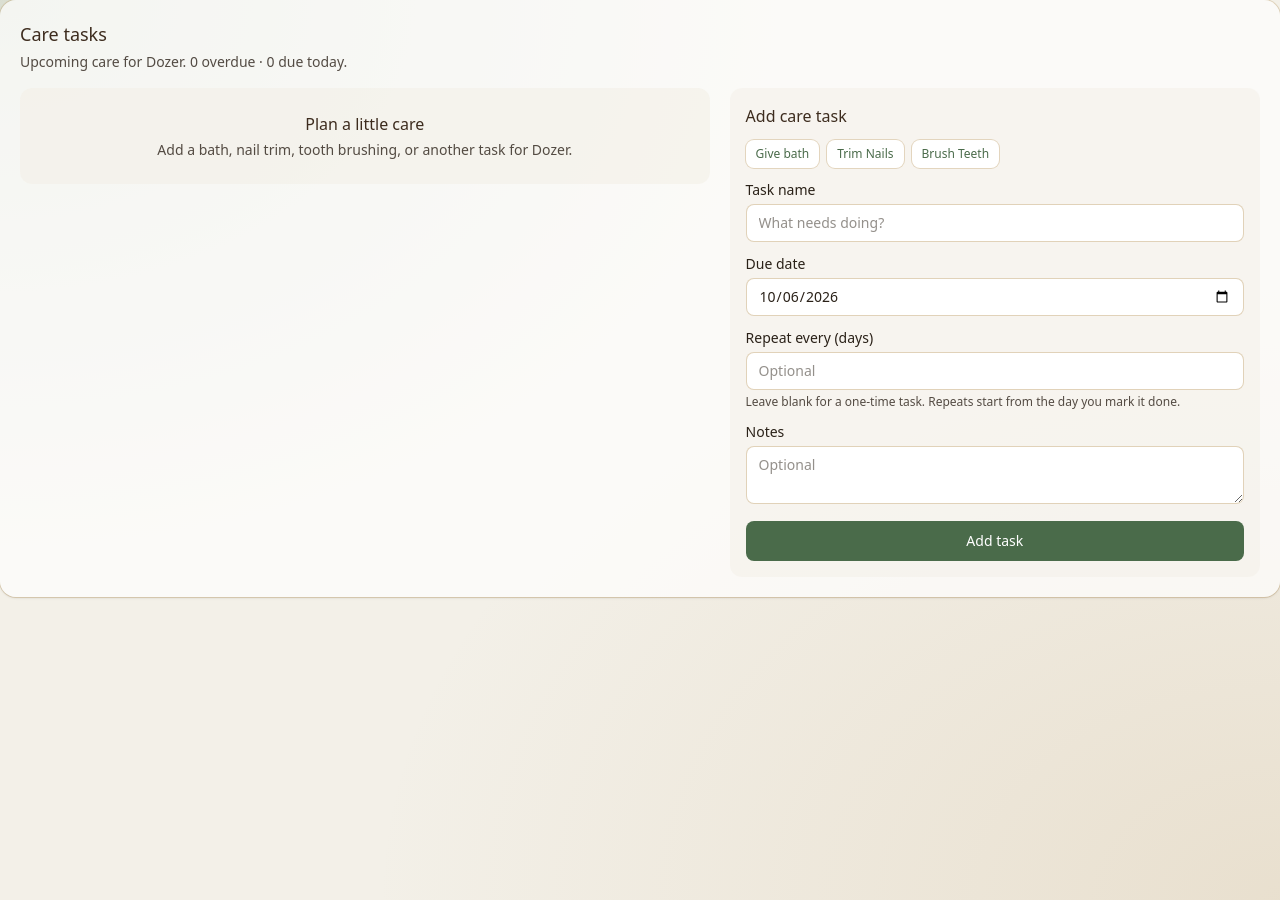
Test: CareTasksPanel › preserves entered values when saving fails
Step 1. Click the button "Give bath" → (782, 154), box [746, 140, 819, 168]
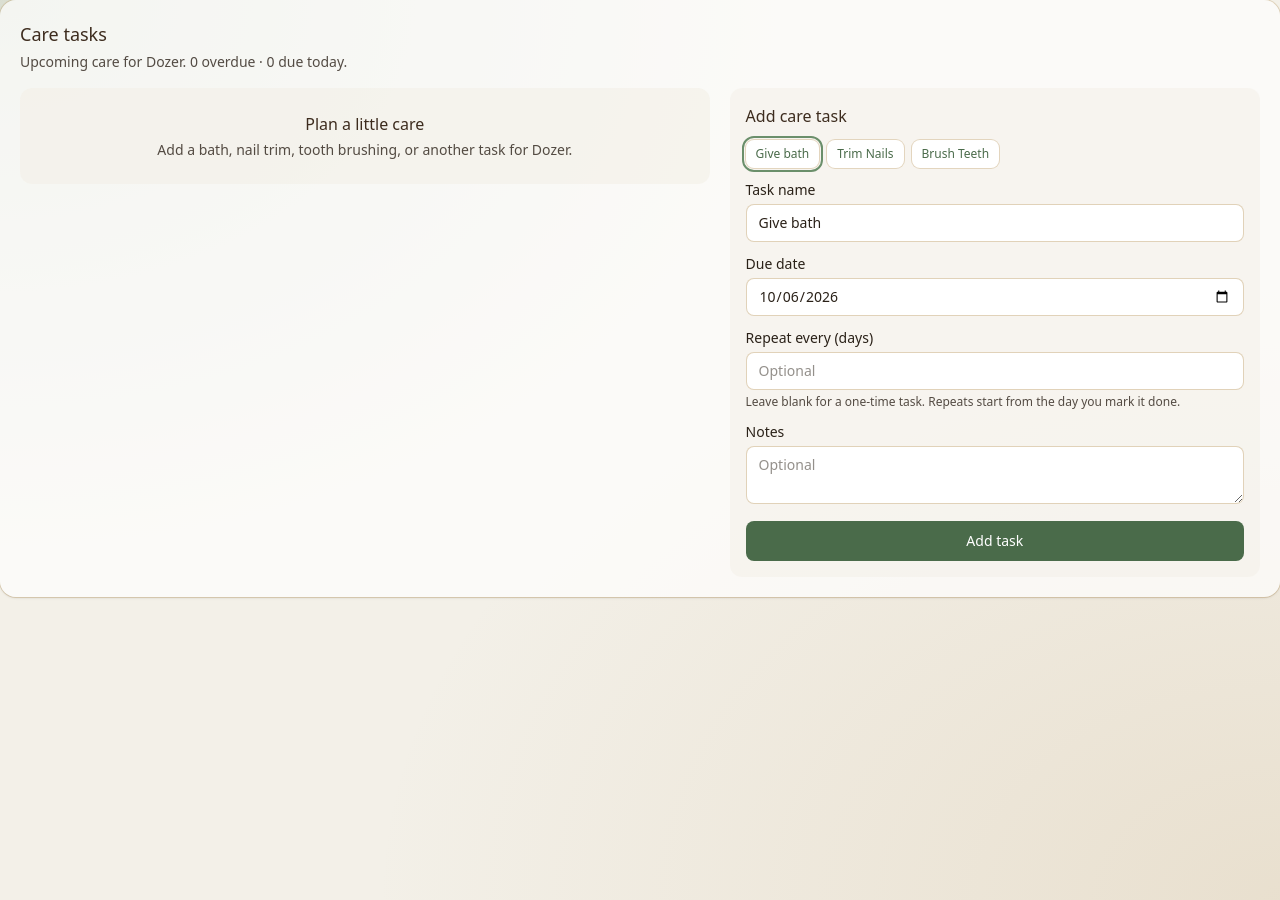
Step 2. Click the button "Add task" → (995, 541), box [746, 521, 1244, 561]
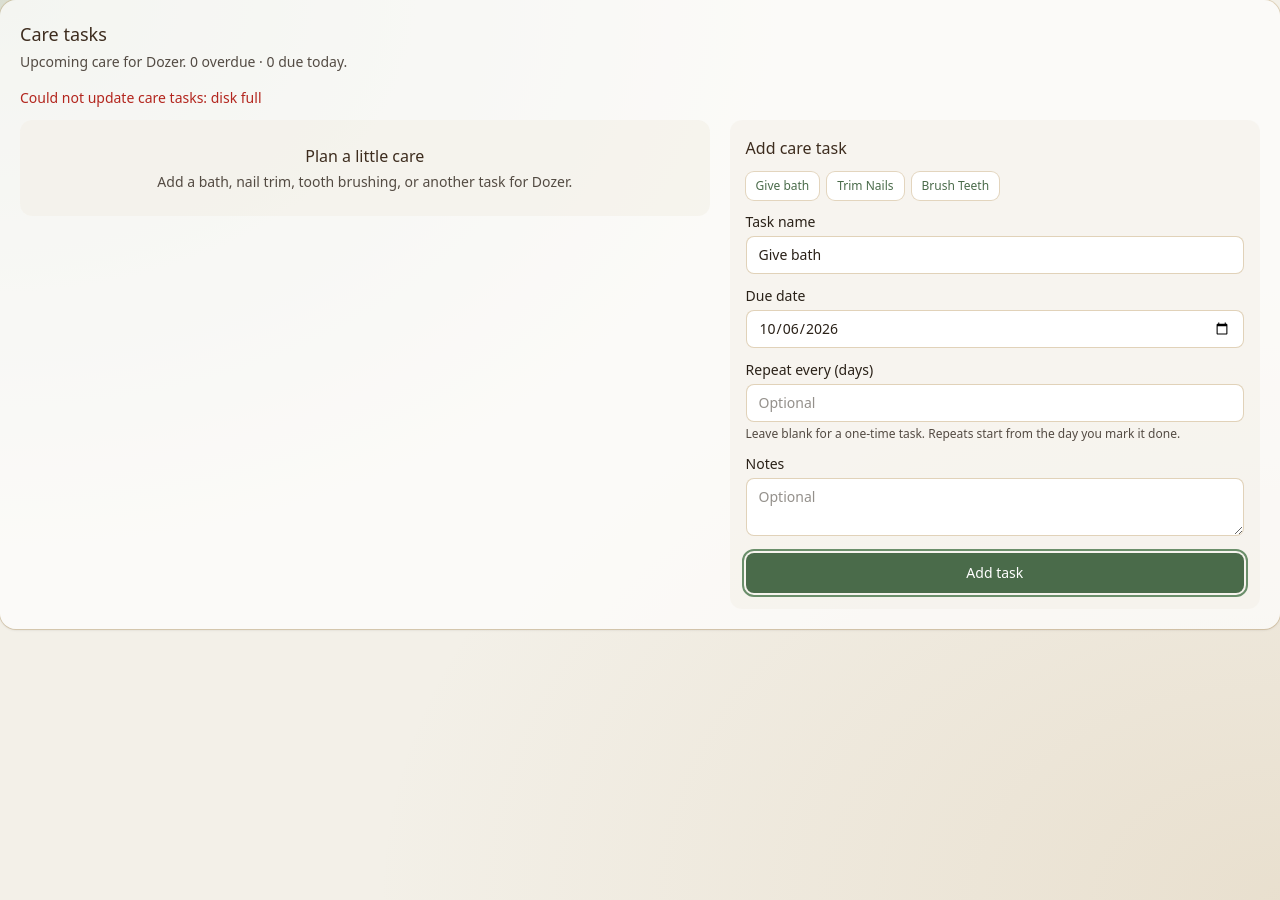
Check: the button "Add task" is enabled, box [746, 553, 1244, 593]
Check: the field labelled "Task name" holds "Give bath", box [746, 236, 1244, 274]
Check: the message shows "disk full", box [20, 88, 262, 107]
